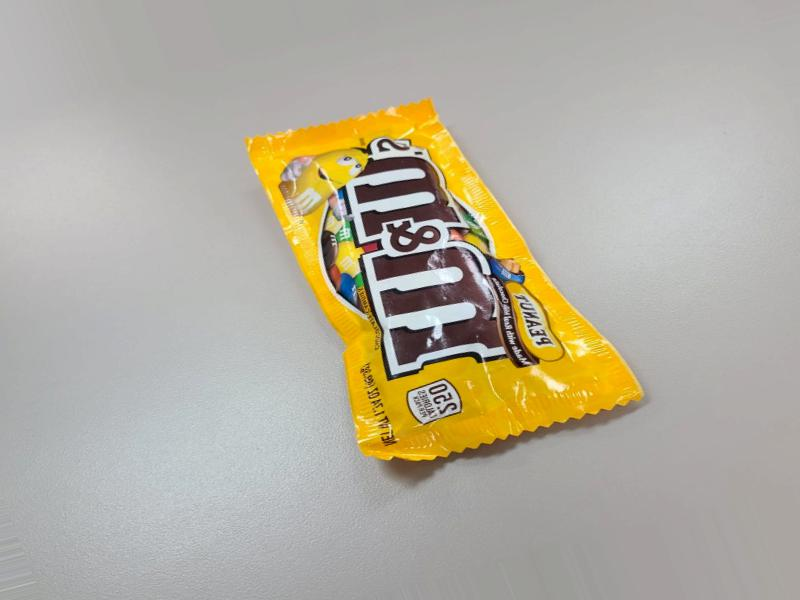m&m: (223, 78, 636, 490)
